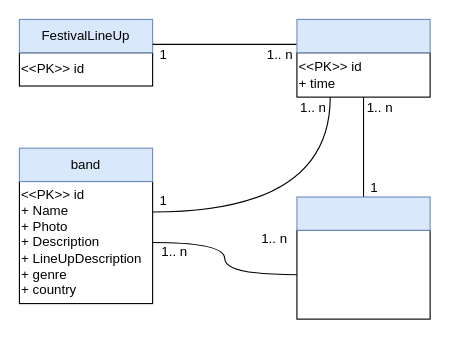
This 450x339 diagram has some shape labels left out. Each missing label, with the centre of its shape:
"<<PK>> id + Name + Description + Photo" belongs at point 363,274.
"stage" belongs at point 363,213.
"timeSlot" belongs at point 363,35.
